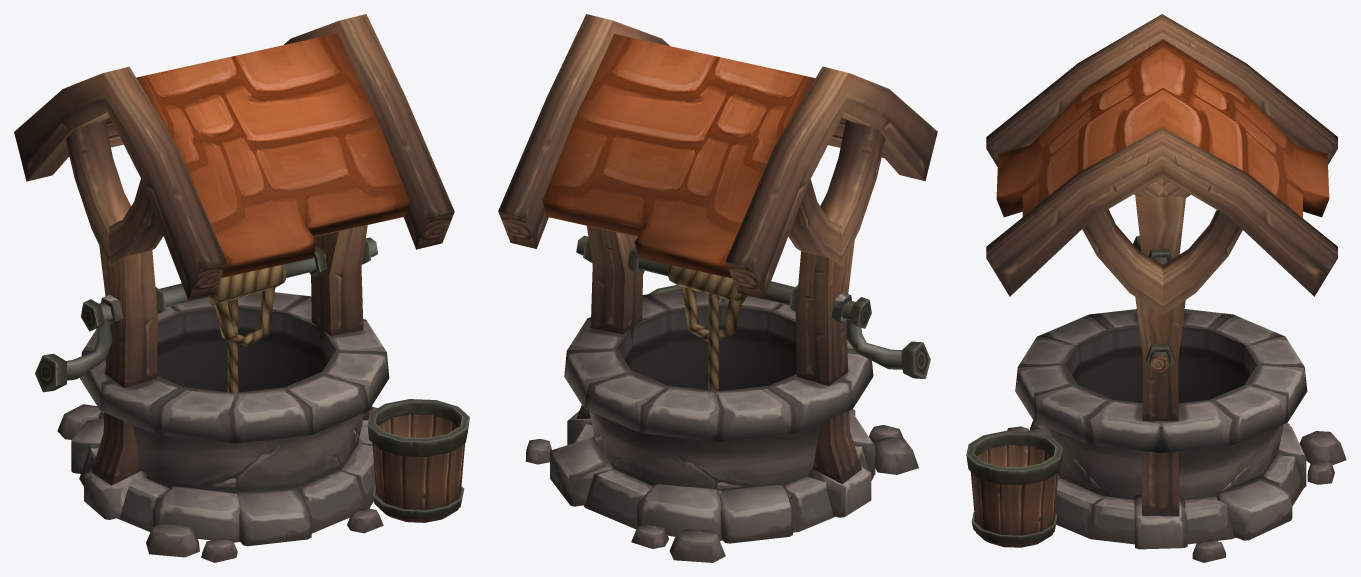
Rendered from water well.FBX.
The picture shows the model from 3 angles, left to right: view 1: azimuth 30°, elevation 25°; view 2: azimuth 150°, elevation 25°; view 3: azimuth 270°, elevation 25°; orthographic projection. The views are drawn at different scales.
Visible parts, largest first — view 1: Water_well; view 2: Water_well; view 3: Water_well.
Part boxes in pixels (left/top/right/bottom): Water_well: left=14, top=14, right=469, bottom=562; Water_well: left=498, top=14, right=937, bottom=562; Water_well: left=966, top=14, right=1346, bottom=562.
Size of the model in its own units: 627 by 706 by 593.
